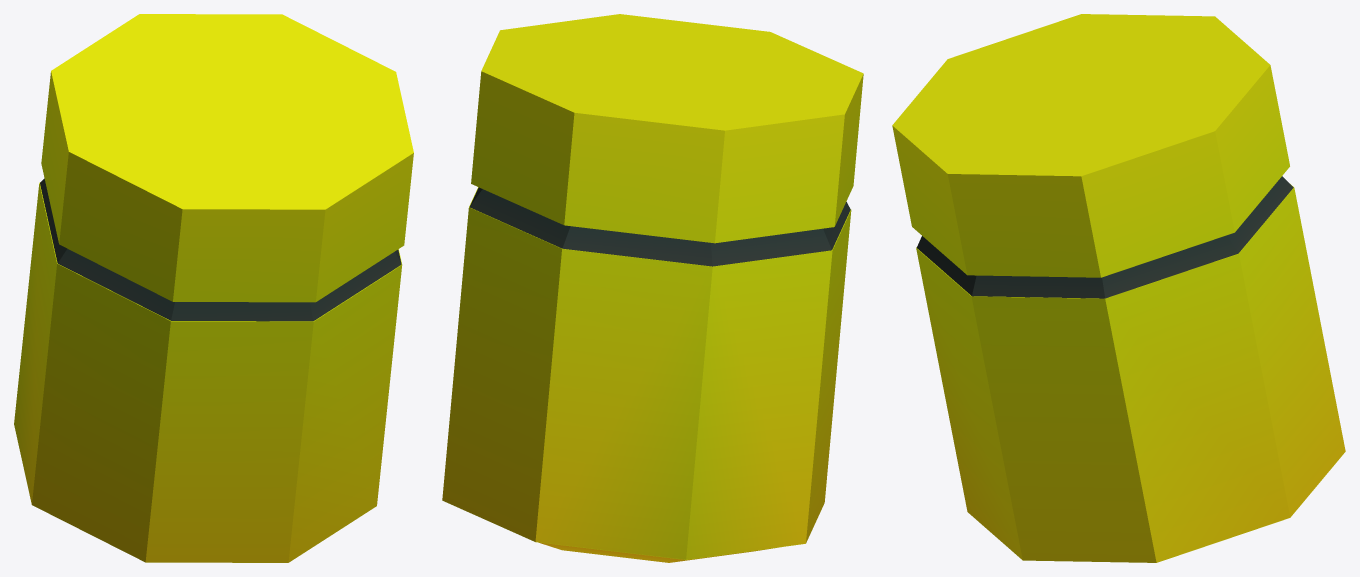
The picture shows the model from 3 angles, left to right: view 1: azimuth 30°, elevation 25°; view 2: azimuth 150°, elevation 25°; view 3: azimuth 270°, elevation 25°; orthographic projection. The views are drawn at different scales.
Parts seen in each view (by area): view 1: cap, base_bevel, band; view 2: base_bevel, cap, band; view 3: base_bevel, cap, band.
Part boxes in pixels (<box>): cap: <box>41,14,413,302</box>; base_bevel: <box>14,182,402,562</box>; band: <box>40,178,401,321</box>; base_bevel: <box>442,187,851,562</box>; cap: <box>471,14,863,243</box>; band: <box>469,187,850,266</box>; base_bevel: <box>916,184,1345,562</box>; cap: <box>892,14,1289,277</box>; band: <box>916,176,1293,298</box>.
Bounding box in the file's own units: 0.0845 × 0.1107 × 0.0998.
